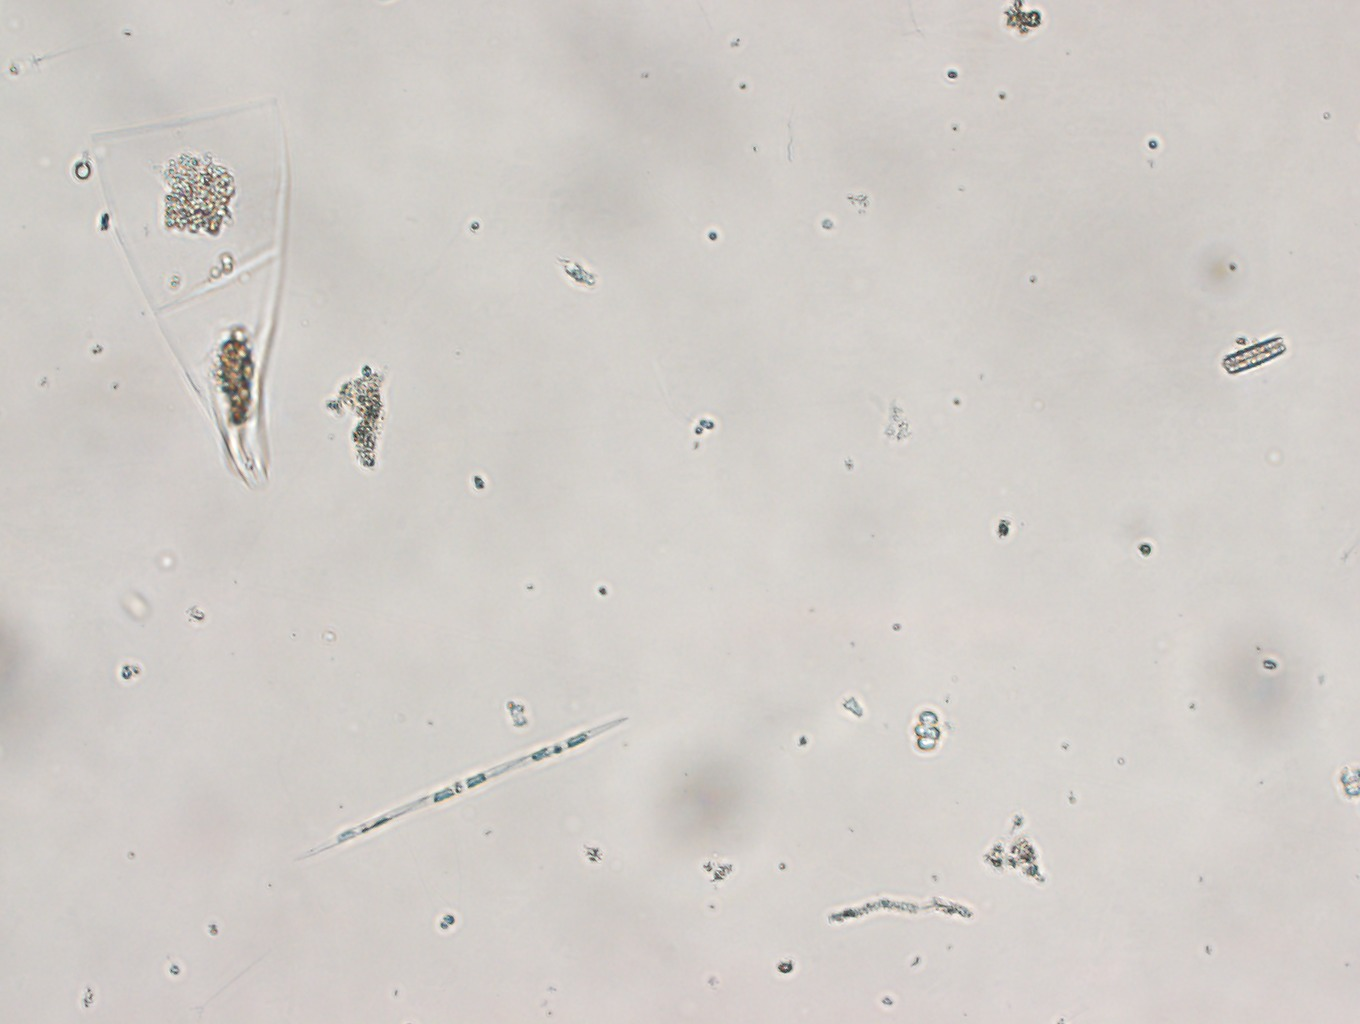helicotheca: (87, 100, 294, 490)
